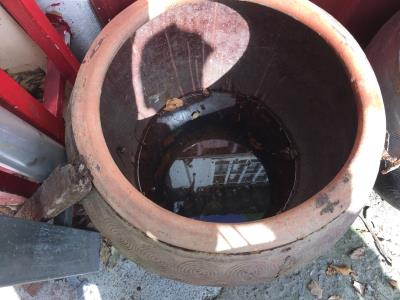bowl: (63, 1, 388, 288)
